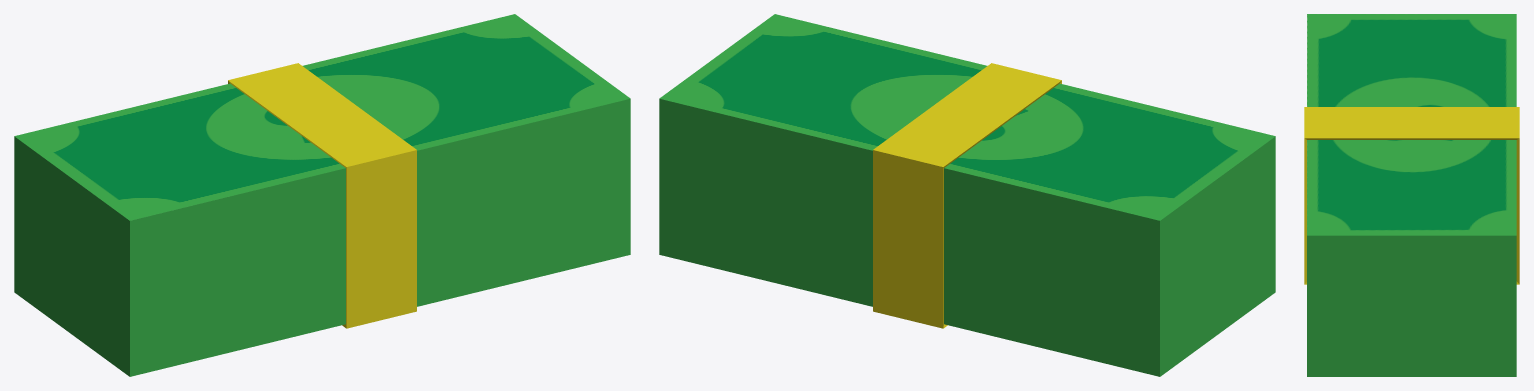
Rendered from dolar.fbx.
3 renders of one model, left to right at view 1: azimuth 30°, elevation 25°; view 2: azimuth 150°, elevation 25°; view 3: azimuth 270°, elevation 25°, orthographic. The views are drawn at different scales.
Parts seen in each view (by area): view 1: money, lenta; view 2: money, lenta; view 3: money, lenta.
Boxes of the visible parts, bbox=[...] form: money: bbox=[14, 14, 630, 376]; lenta: bbox=[228, 63, 416, 328]; money: bbox=[659, 14, 1275, 376]; lenta: bbox=[873, 63, 1061, 328]; money: bbox=[1307, 14, 1516, 376]; lenta: bbox=[1304, 107, 1519, 284].
Bounding box in the file's own units: 15 × 4.62 × 6.16.
